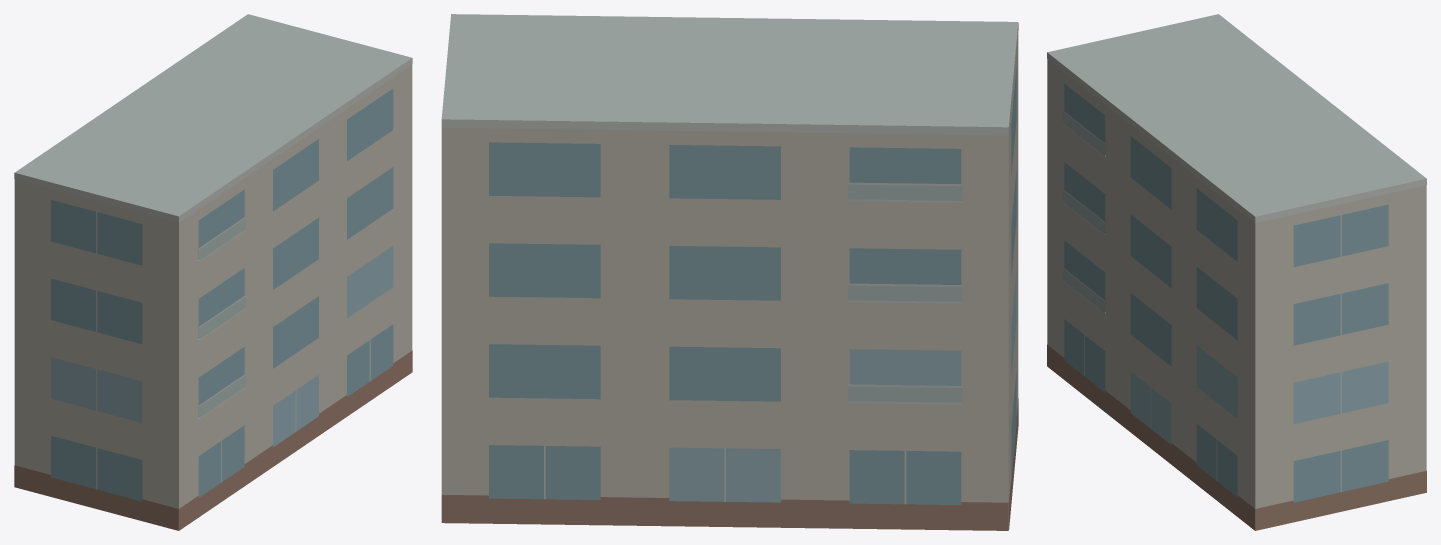
The model's file is survey-upis-32889635.glb.
3 views of the same model, side by side, from view 1: azimuth 30°, elevation 25°; view 2: azimuth 150°, elevation 25°; view 3: azimuth 270°, elevation 25° (orthographic). The views are drawn at different scales.
Parts seen in each view (by area): view 1: survey-upis-32889635.tmp; view 2: survey-upis-32889635.tmp; view 3: survey-upis-32889635.tmp.
Part boxes in pixels (<box>): survey-upis-32889635.tmp: <box>14,14,412,530</box>; survey-upis-32889635.tmp: <box>441,14,1018,530</box>; survey-upis-32889635.tmp: <box>1047,14,1426,530</box>.
Bounding box in the file's own units: 16.56 × 11.95 × 13.1.
